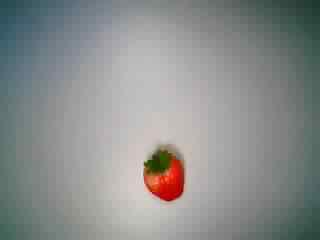strawberry: (125, 142, 193, 206)
